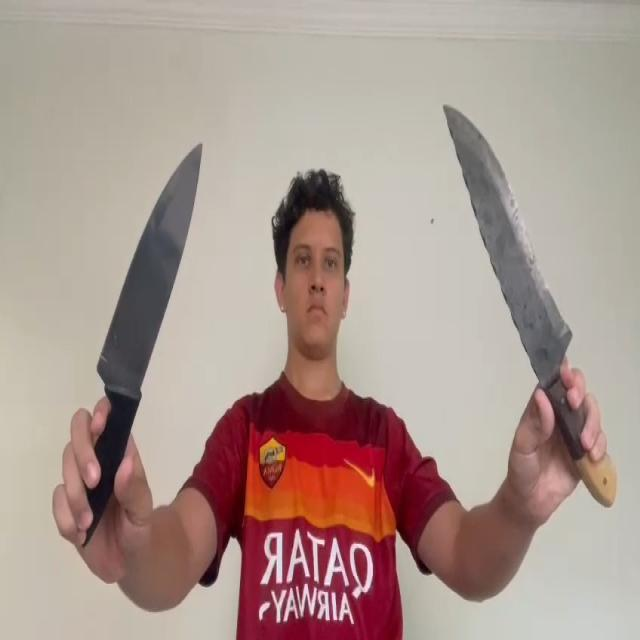knife: (443, 102, 574, 371), (97, 139, 203, 379)
